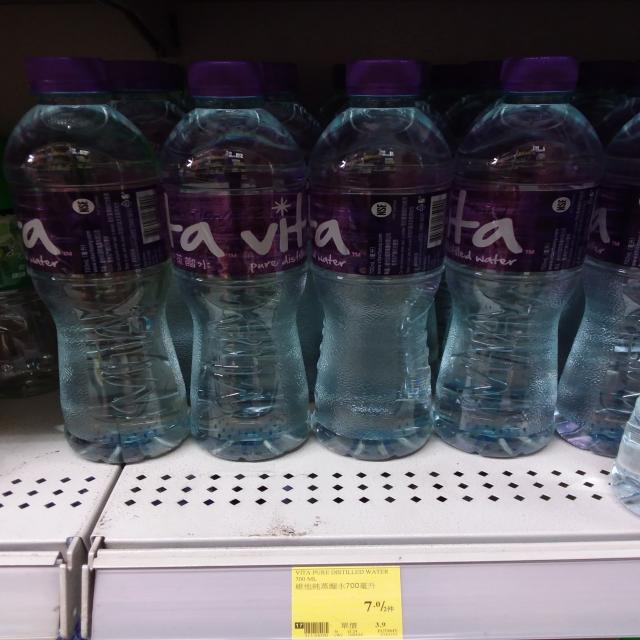plastic_bottle: (2, 55, 191, 464)
